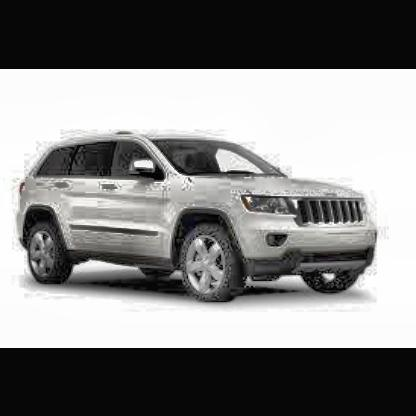Jeep Grand Cherokee SUV 2012: (17, 133, 381, 307)
